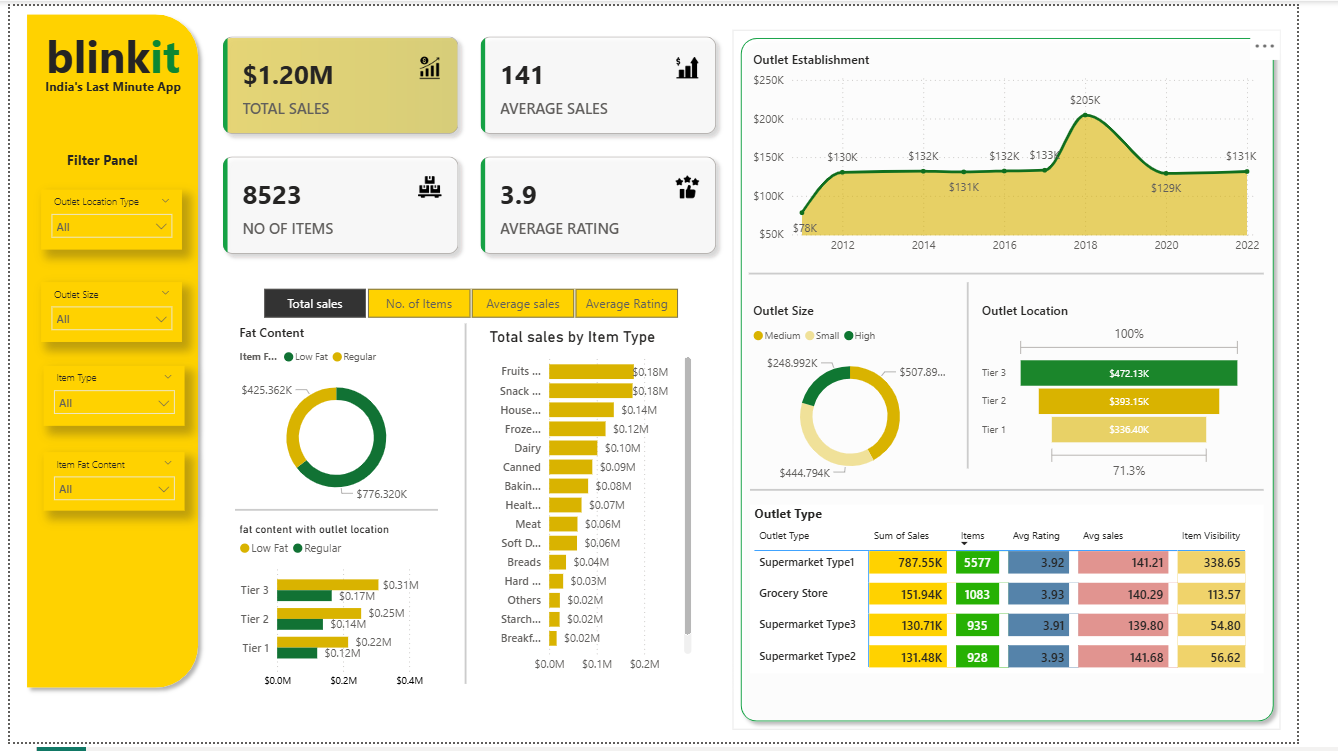

The page's visual inventory and layout, read from the dashboard file:
{"tool":"powerbi","page":{"name":"Page 1","canvas":[1400,800],"ordinal":0},"visuals":[{"type":"shape","box":[10,0,204,750],"z":0},{"type":"textbox","box":[262.7,0,202.6,73.5],"z":1000},{"type":"textbox","box":[25.5,16.5,172.6,79.5],"z":2000},{"type":"textbox","box":[25.5,73.5,172.6,42],"z":3000},{"type":"cardVisual","fields":{"Data":["BlinkIT Grocery Data.Total sales","BlinkIT Grocery Data.Average sales","BlinkIT Grocery Data.No. of Items","BlinkIT Grocery Data.Average Rating"]},"box":[214.6,16.5,570.3,270.2],"z":4000},{"type":"shape","box":[785,25.5,597.3,760.9],"z":5000},{"type":"donutChart","title":"Fat Content","fields":{"Y":["BlinkIT Grocery Data.Total sales"],"Category":["BlinkIT Grocery Data.Item Fat Content"]},"box":[244.6,345.2,220.6,202.6],"z":6000},{"type":"slicer","fields":{"Values":["metrices.metrices"]},"box":[250.6,300.2,500,45],"z":7000},{"type":"clusteredBarChart","title":"fat content with outlet location","fields":{"Y":["BlinkIT Grocery Data.Total sales"],"Category":["BlinkIT Grocery Data.Outlet Location Type"],"Series":["BlinkIT Grocery Data.Item Fat Content"]},"box":[244.6,561.1,220.1,188.9],"z":8000},{"type":"shape","box":[244.6,489.3,220.6,117.1],"z":9000},{"type":"shape","box":[474.3,345.2,42,391.7],"z":10000},{"type":"barChart","fields":{"Y":["BlinkIT Grocery Data.Total sales"],"Category":["BlinkIT Grocery Data.Item Type"]},"box":[516.3,349.7,229.6,384.2],"z":11000},{"type":"lineChart","title":"Outlet Establishment ","fields":{"Category":["BlinkIT Grocery Data.Outlet Establishment Year"],"Y":["BlinkIT Grocery Data.Total sales"]},"box":[803,49.5,559.8,229.6],"z":12000},{"type":"shape","box":[803,232.6,559.8,117.1],"z":13000},{"type":"donutChart","title":"Outlet Size","fields":{"Y":["BlinkIT Grocery Data.Total sales"],"Category":["BlinkIT Grocery Data.Outlet Size"]},"box":[803,322.7,220.6,202.6],"z":14000},{"type":"shape","box":[804.5,466.8,558.3,117.1],"z":15000},{"type":"shape","box":[930.5,300.2,220.6,202.6],"z":16000},{"type":"funnel","title":"Outlet Location ","fields":{"Y":["BlinkIT Grocery Data.Total sales"],"Category":["BlinkIT Grocery Data.Outlet Location Type"]},"box":[1052.1,322.7,292.7,198.1],"z":17000},{"type":"pivotTable","title":"Outlet Type","fields":{"Rows":["BlinkIT Grocery Data.Outlet Type"],"Values":["Sum(BlinkIT Grocery Data.Sales)","BlinkIT Grocery Data.No. of Items","BlinkIT Grocery Data.Average Rating","BlinkIT Grocery Data.Average sales","Sum(BlinkIT Grocery Data.Item Visibility)"]},"box":[804.5,541.8,558.3,183.1],"z":18000},{"type":"slicer","fields":{"Values":["BlinkIT Grocery Data.Outlet Location Type"]},"box":[34.5,199.6,153.1,64.5],"z":19000},{"type":"slicer","fields":{"Values":["BlinkIT Grocery Data.Outlet Size"]},"box":[34.5,300.2,153.1,64.5],"z":20000},{"type":"slicer","fields":{"Values":["BlinkIT Grocery Data.Item Type"]},"box":[36,391.7,153.1,64.5],"z":21000},{"type":"donutChart","title":"Fat Content","fields":{"Y":["BlinkIT Grocery Data.Total sales"],"Category":["BlinkIT Grocery Data.Item Fat Content"]},"box":[254.6,355.2,220.6,202.6],"z":22000},{"type":"slicer","fields":{"Values":["BlinkIT Grocery Data.Item Fat Content"]},"box":[36,484.8,153.1,63],"z":23000},{"type":"textbox","box":[57,151.6,157.6,48],"z":24000}]}

Visuals, with their boxes in screenshot pixels (x1, y1, x2, y2), scaled from the page's 1400x800 canvas onto the 1338x751 screenshot:
shape: Rect(10, 0, 205, 704)
textbox: Rect(251, 0, 445, 69)
textbox: Rect(24, 15, 189, 90)
textbox: Rect(24, 69, 189, 108)
cardVisual - BlinkIT Grocery Data.Total sales x BlinkIT Grocery Data.Average sales: Rect(205, 15, 750, 269)
shape: Rect(750, 24, 1321, 738)
"Fat Content" donutChart: Rect(234, 324, 445, 514)
slicer - metrices.metrices: Rect(240, 282, 717, 324)
"fat content with outlet location" clusteredBarChart: Rect(234, 527, 444, 704)
shape: Rect(234, 459, 445, 569)
shape: Rect(453, 324, 493, 692)
barChart - BlinkIT Grocery Data.Total sales x BlinkIT Grocery Data.Item Type: Rect(493, 328, 713, 689)
"Outlet Establishment " lineChart: Rect(767, 46, 1302, 262)
shape: Rect(767, 218, 1302, 328)
"Outlet Size" donutChart: Rect(767, 303, 978, 493)
shape: Rect(769, 438, 1302, 548)
shape: Rect(889, 282, 1100, 472)
"Outlet Location " funnel: Rect(1006, 303, 1285, 489)
"Outlet Type" pivotTable: Rect(769, 509, 1302, 680)
slicer - BlinkIT Grocery Data.Outlet Location Type: Rect(33, 187, 179, 248)
slicer - BlinkIT Grocery Data.Outlet Size: Rect(33, 282, 179, 342)
slicer - BlinkIT Grocery Data.Item Type: Rect(34, 368, 181, 428)
"Fat Content" donutChart: Rect(243, 333, 454, 524)
slicer - BlinkIT Grocery Data.Item Fat Content: Rect(34, 455, 181, 514)
textbox: Rect(54, 142, 205, 187)
